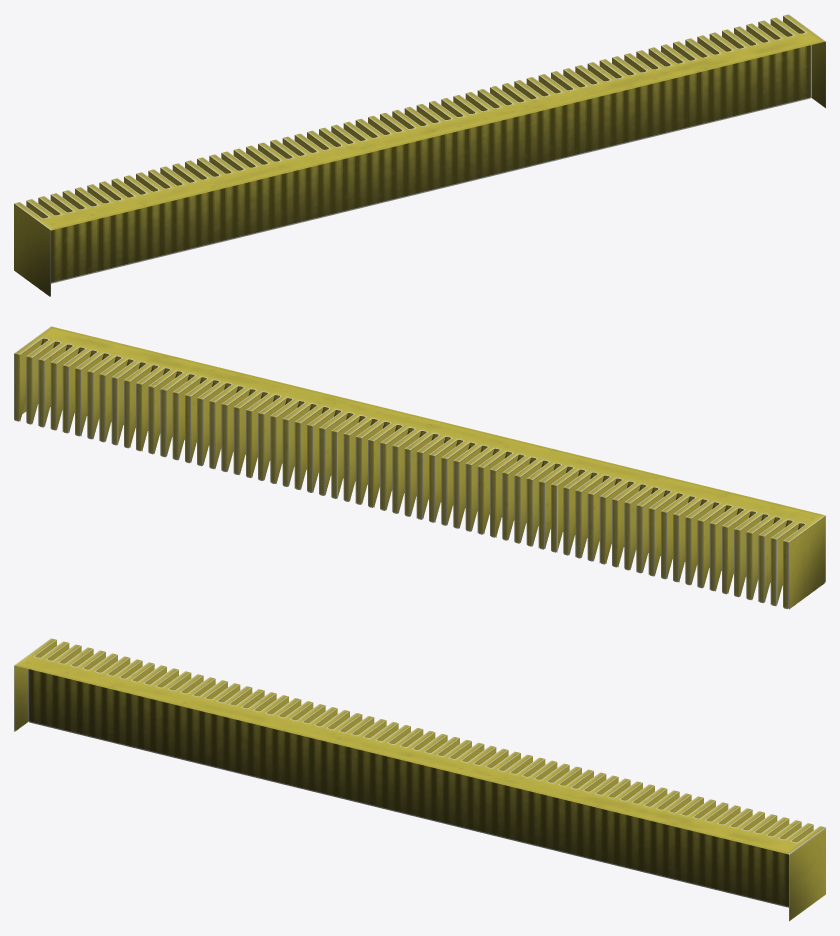
3 renders of one model, top to bottom at view 1: azimuth 30°, elevation 25°; view 2: azimuth 150°, elevation 25°; view 3: azimuth 330°, elevation 25°, orthographic.
Visible parts, largest first — view 1: platform_gap_filler_inner_area, platform_gap_filler_main, platform_gap_filler_branch_polyfill, platform_gap_filler_end_left, platform_gap_filler_end_right; view 2: platform_gap_filler_main, platform_gap_filler_branch_polyfill, platform_gap_filler_end_left, platform_gap_filler_inner_area; view 3: platform_gap_filler_inner_area, platform_gap_filler_main, platform_gap_filler_branch_polyfill, platform_gap_filler_end_right, platform_gap_filler_end_left.
Boxes of the visible parts, x1,y1,x2,y2 form: platform_gap_filler_inner_area: (51,45,811,283); platform_gap_filler_main: (14,14,825,230); platform_gap_filler_branch_polyfill: (26,16,804,218); platform_gap_filler_end_left: (14,204,50,296); platform_gap_filler_end_right: (811,41,825,107); platform_gap_filler_main: (14,326,825,609); platform_gap_filler_branch_polyfill: (20,338,799,606); platform_gap_filler_end_left: (789,516,825,609); platform_gap_filler_inner_area: (41,338,804,585); platform_gap_filler_inner_area: (28,669,788,907); platform_gap_filler_main: (14,638,825,854); platform_gap_filler_branch_polyfill: (35,640,813,842); platform_gap_filler_end_right: (789,828,825,921); platform_gap_filler_end_left: (14,665,28,731).
Bounding box in the file's own units: 0.9922 × 0.082 × 0.082.
2 materials, 2 textured.
